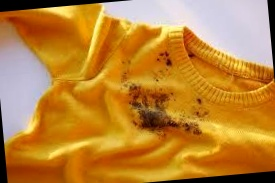earth: (129, 87, 173, 132), (157, 50, 171, 68), (183, 123, 202, 136), (195, 98, 205, 119)
